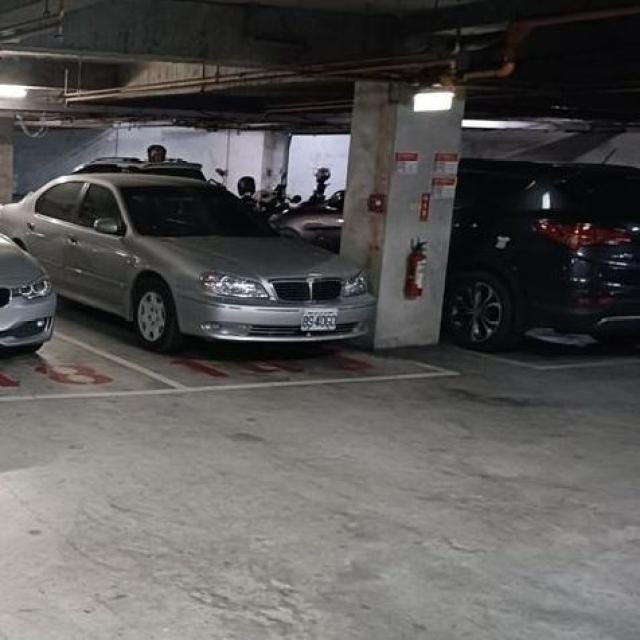W: (296, 301, 340, 335)
